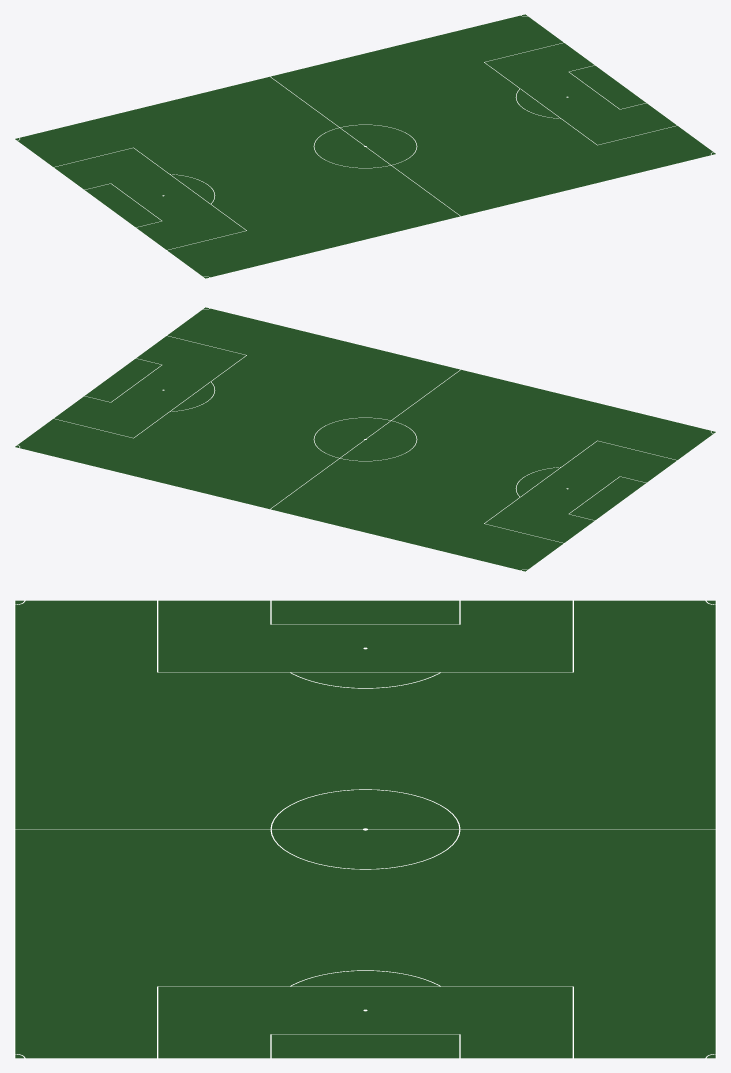
The model's file is low_poly_football_pitch.glb.
The picture shows the model from 3 angles, top to bottom: view 1: azimuth 30°, elevation 25°; view 2: azimuth 150°, elevation 25°; view 3: azimuth 270°, elevation 25°; orthographic projection. The views are drawn at different scales.
Visible parts, largest first — view 1: Pitch_Base, PitchMarkings; view 2: Pitch_Base, PitchMarkings; view 3: Pitch_Base, PitchMarkings.
Part boxes in pixels (<box>): Pitch_Base: <box>15,14,715,278</box>; PitchMarkings: <box>14,14,716,278</box>; Pitch_Base: <box>15,307,715,571</box>; PitchMarkings: <box>14,307,716,571</box>; Pitch_Base: <box>15,600,715,1058</box>; PitchMarkings: <box>14,600,716,1058</box>.
Bounding box in the file's own units: 105 × 0.013 × 68.12.
